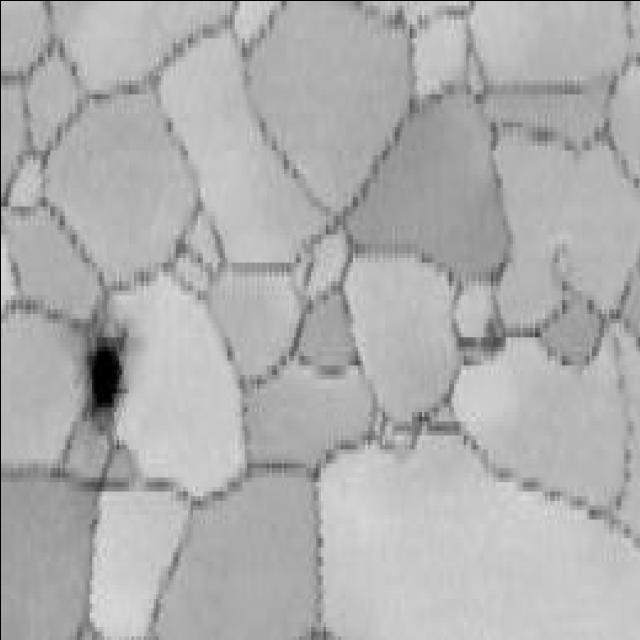good_void: (79, 309, 132, 429)
